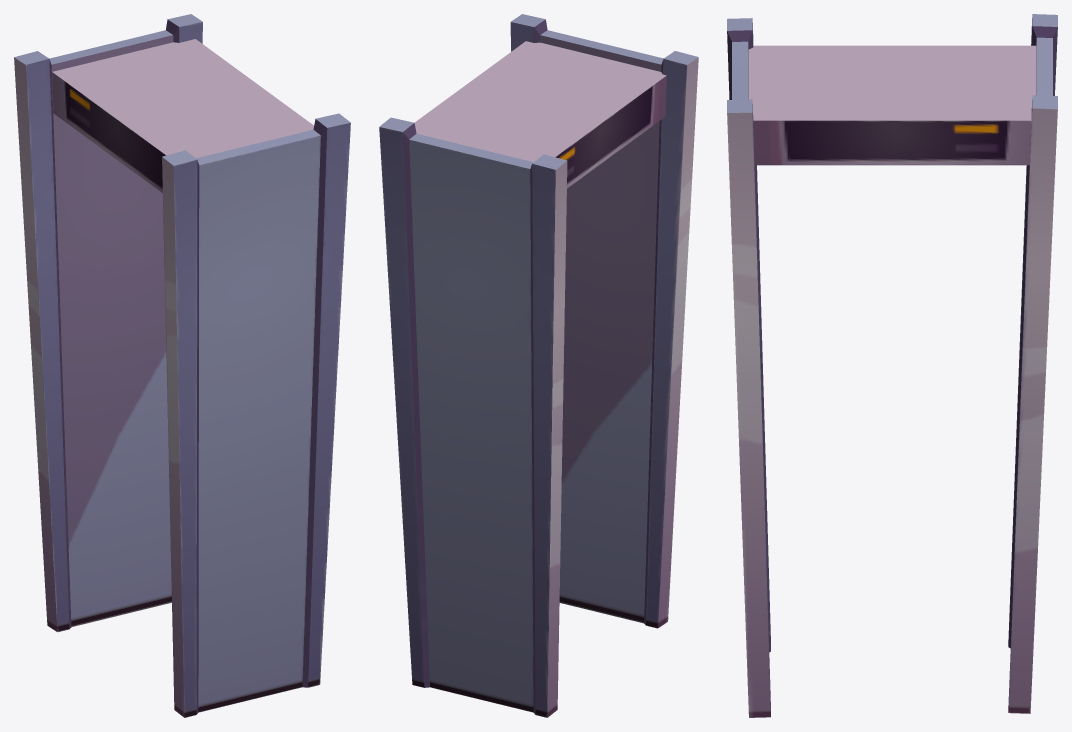
The model's file is Metal_Detector.fbx.
The picture shows the model from 3 angles, left to right: view 1: azimuth 30°, elevation 25°; view 2: azimuth 150°, elevation 25°; view 3: azimuth 270°, elevation 25°; orthographic projection. The views are drawn at different scales.
Visible parts, largest first — view 1: Cube.035; view 2: Cube.035; view 3: Cube.035.
Part boxes in pixels (x1=…): Cube.035: x1=14, y1=14, x2=350, y2=717; Cube.035: x1=379, y1=14, x2=698, y2=717; Cube.035: x1=727, y1=14, x2=1057, y2=717.
Size of the model in its own units: 41.02 by 120 by 58.15.
1 material, 1 textured.
